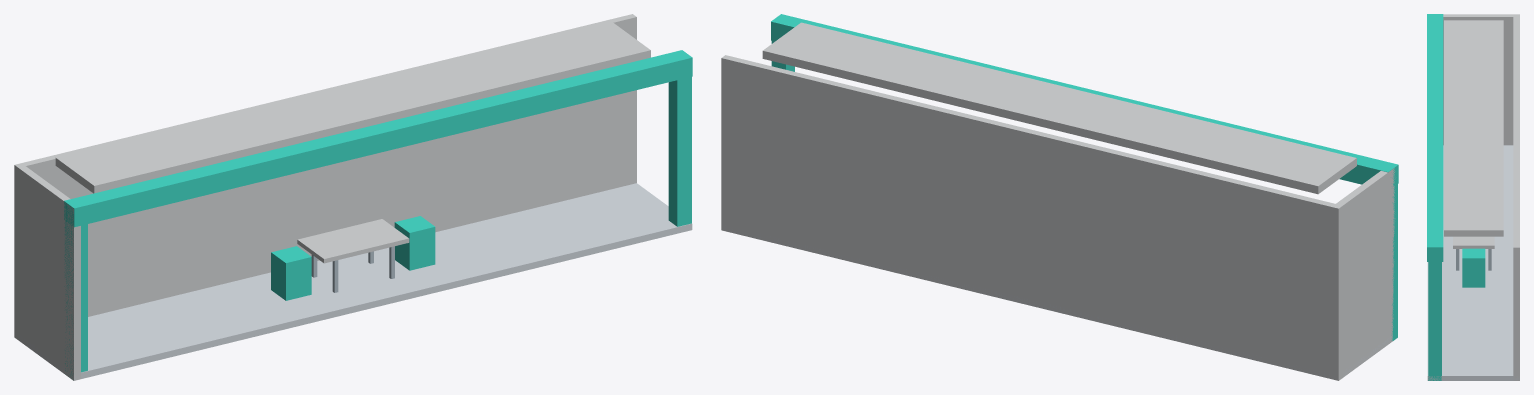
3 views of the same model, side by side, from view 1: azimuth 30°, elevation 25°; view 2: azimuth 150°, elevation 25°; view 3: azimuth 270°, elevation 25° (orthographic). The views are drawn at different scales.
Parts seen in each view (by area): view 1: Exhibition Booth Concept; view 2: Exhibition Booth Concept; view 3: Exhibition Booth Concept.
Part boxes in pixels (box(x1,y1,x2,y2)): Exhibition Booth Concept: box(14, 14, 692, 380); Exhibition Booth Concept: box(721, 14, 1398, 380); Exhibition Booth Concept: box(1427, 14, 1519, 380).
Size of the model in its own units: 12 by 3.34 by 2.01.
